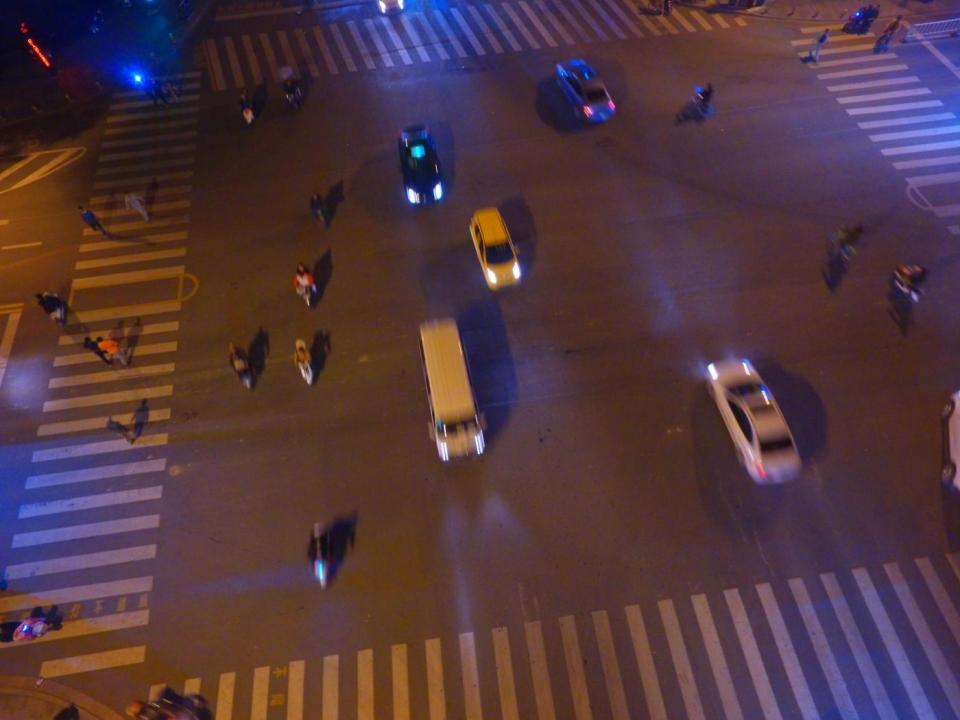car: (704, 356, 803, 487), (468, 208, 519, 292), (394, 127, 445, 208), (557, 58, 616, 123)
van: (413, 319, 487, 460)
